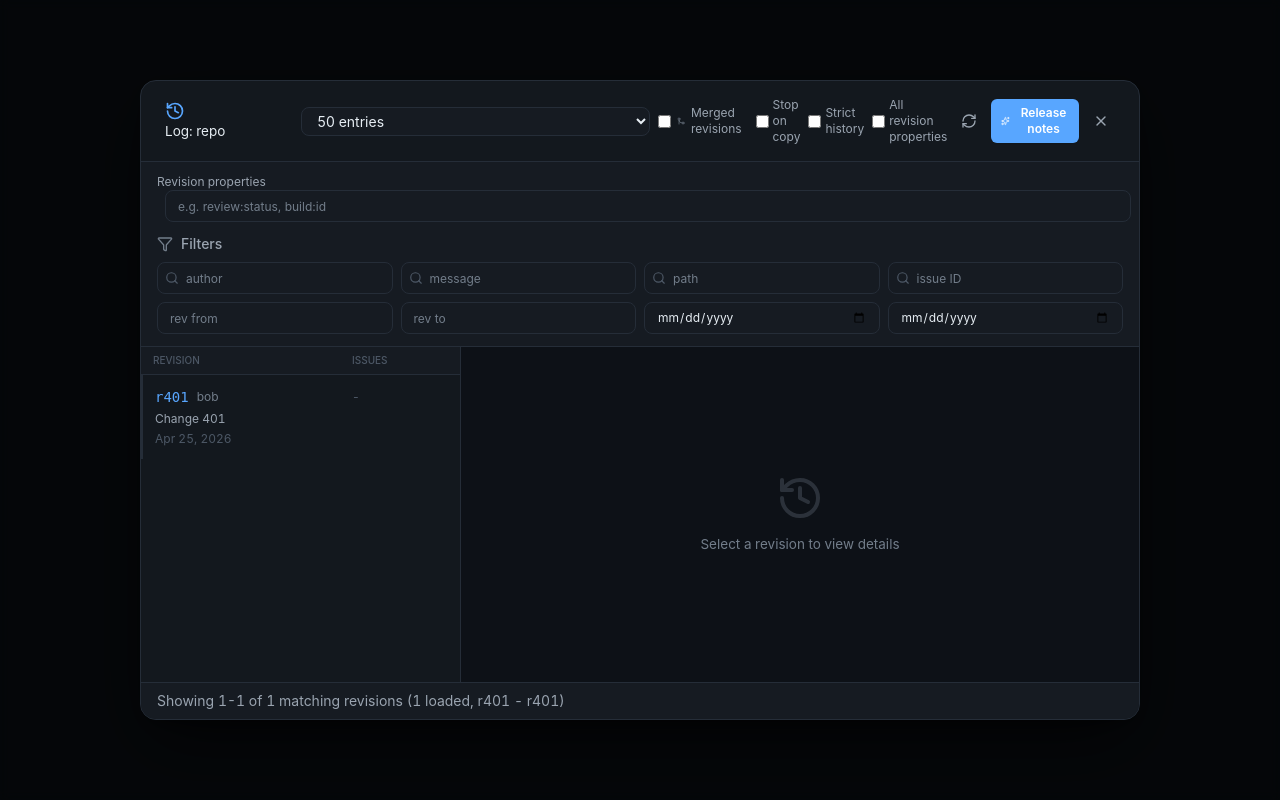
Test: LogViewer › requests and displays selected revision properties
Check: the text "r401" is shown, box [155,387,189,407]
In the field labelled "Revision properties": [648, 206] box [165,190,1131,222], type "review:status, build:id"
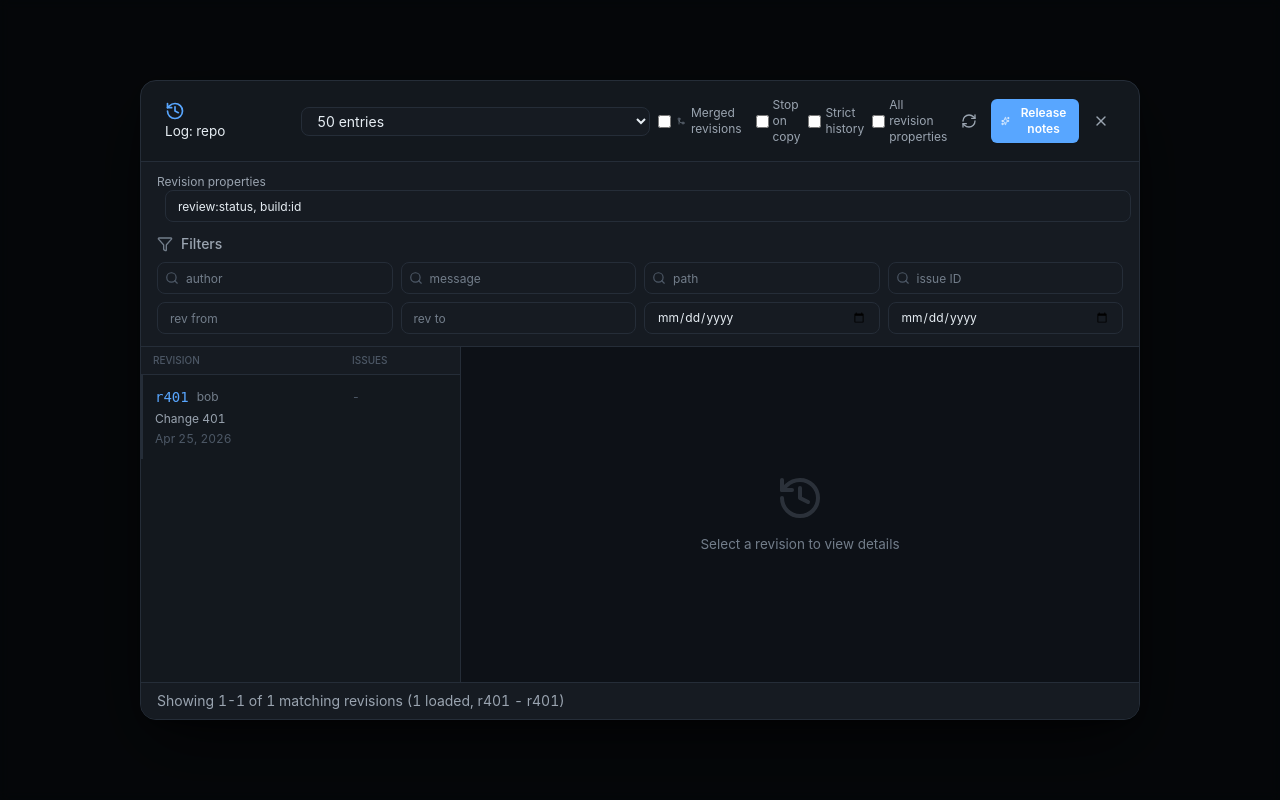
Click the text "r401": [172, 397] box [155,387,189,407]
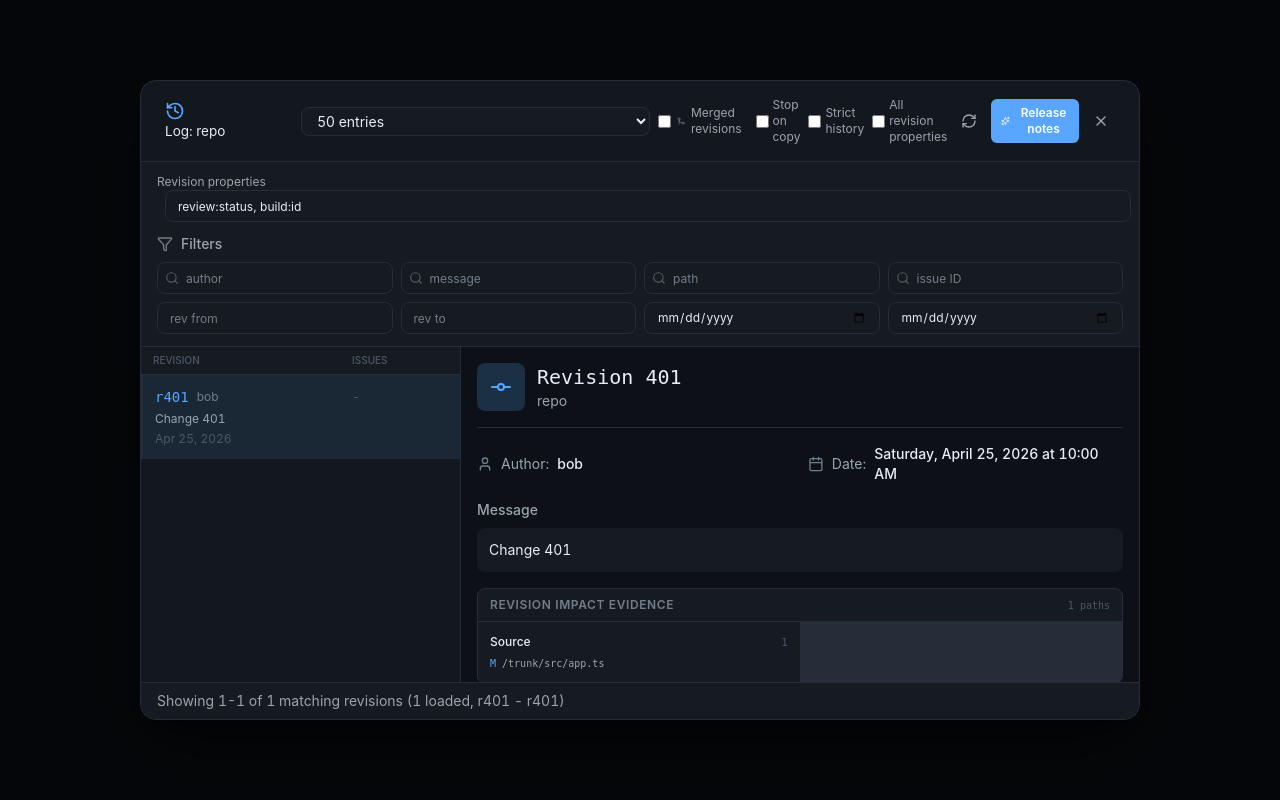
Check: the text "1 paths" is shown, box [1068,598,1110,612]
